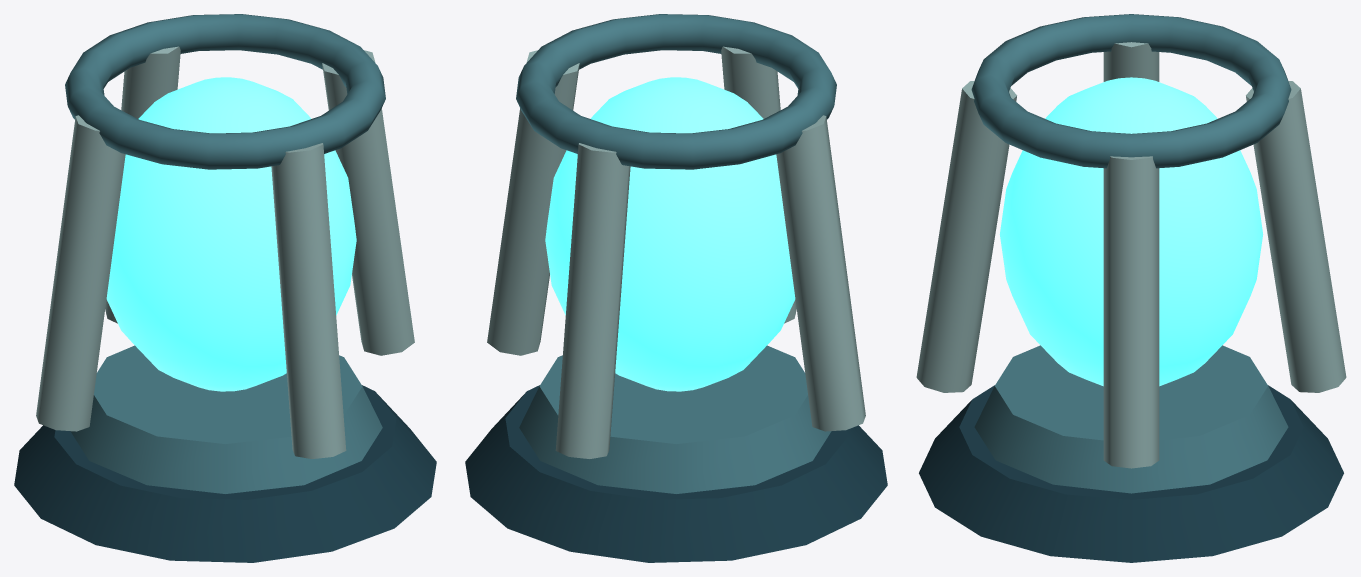
File: pelagic_high_pressure--shield_emitter.glb
The picture shows the model from 3 angles, left to right: view 1: azimuth 30°, elevation 25°; view 2: azimuth 150°, elevation 25°; view 3: azimuth 270°, elevation 25°; orthographic projection.
Parts seen in each view (by area): view 1: shield_emitter_core_3, mount_adapter_1, rotation_bearing_2, emitter_ring_8, emitter_cage_5, emitter_cage_6, emitter_cage_4, emitter_cage_7; view 2: shield_emitter_core_3, mount_adapter_1, rotation_bearing_2, emitter_ring_8, emitter_cage_7, emitter_cage_6, emitter_cage_4, emitter_cage_5; view 3: shield_emitter_core_3, mount_adapter_1, rotation_bearing_2, emitter_ring_8, emitter_cage_4, emitter_cage_5, emitter_cage_7, emitter_cage_6.
Boxes of the visible parts, <box> form: shield_emitter_core_3: <box>106,77,356,391</box>; mount_adapter_1: <box>14,385,436,562</box>; rotation_bearing_2: <box>70,345,382,493</box>; emitter_ring_8: <box>65,14,385,169</box>; emitter_cage_5: <box>271,143,346,458</box>; emitter_cage_6: <box>36,115,125,431</box>; emitter_cage_4: <box>322,50,414,355</box>; emitter_cage_7: <box>105,46,180,323</box>; shield_emitter_core_3: <box>545,77,795,391</box>; mount_adapter_1: <box>465,385,887,562</box>; rotation_bearing_2: <box>519,345,831,493</box>; emitter_ring_8: <box>516,14,836,169</box>; emitter_cage_7: <box>555,143,630,458</box>; emitter_cage_6: <box>776,115,865,431</box>; emitter_cage_4: <box>487,50,579,355</box>; emitter_cage_5: <box>721,46,796,323</box>; shield_emitter_core_3: <box>999,77,1263,386</box>; mount_adapter_1: <box>919,385,1343,562</box>; rotation_bearing_2: <box>974,345,1288,493</box>; emitter_ring_8: <box>971,14,1291,168</box>; emitter_cage_4: <box>1103,156,1159,468</box>; emitter_cage_5: <box>916,81,1016,392</box>; emitter_cage_7: <box>1246,81,1346,392</box>; emitter_cage_6: <box>1103,42,1159,81</box>.
Size of the model in its own units: 10.19 by 10.42 by 10.19.
